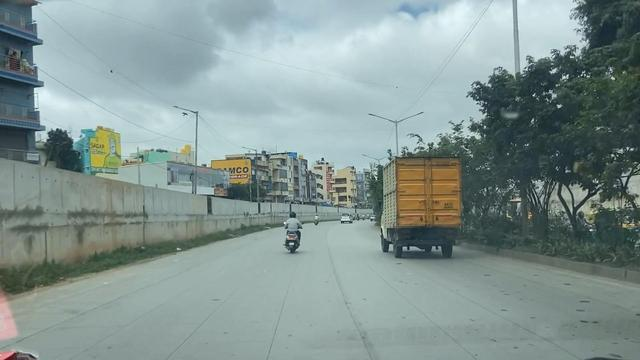HMV: (377, 148, 471, 265)
